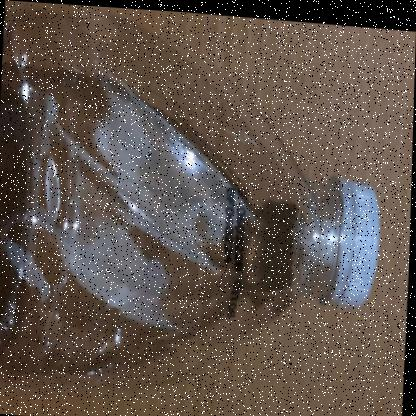bottle cap: (128, 8, 416, 416)
